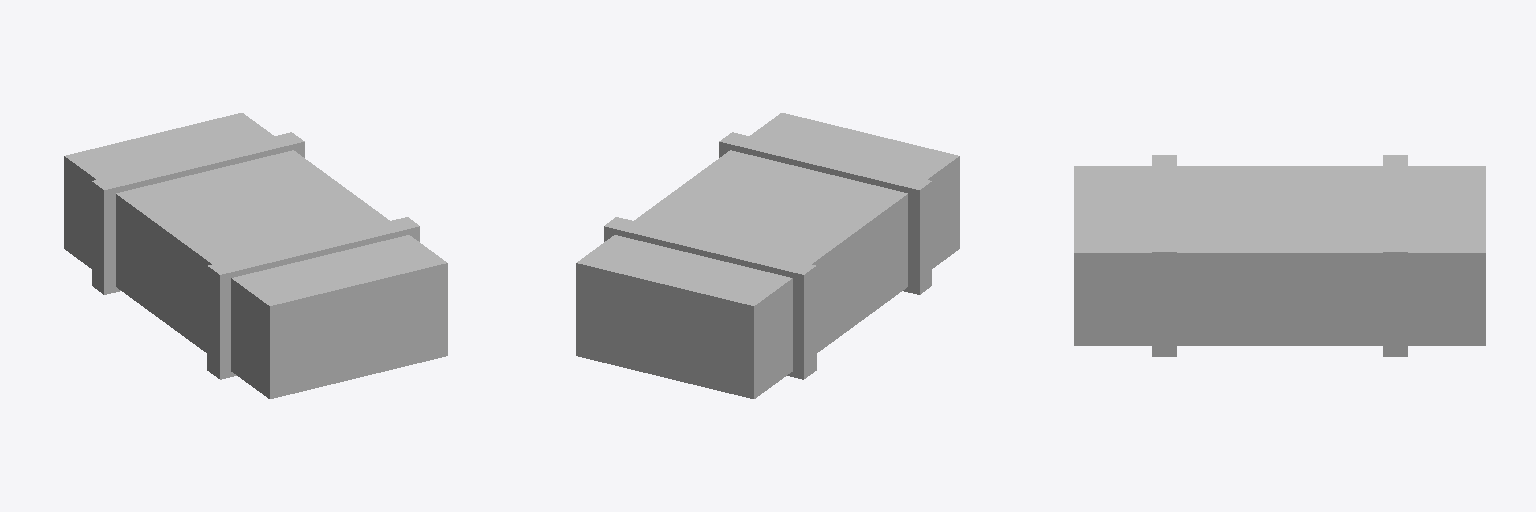
The model's file is guncase.obj.
The picture shows the model from 3 angles: view 1: azimuth 30°, elevation 25°; view 2: azimuth 150°, elevation 25°; view 3: azimuth 270°, elevation 25°; orthographic projection.
Visible parts, largest first — view 1: crate1; view 2: crate1; view 3: crate1.
Part boxes in pixels (bbox=[...]): crate1: bbox=[64, 113, 447, 398]; crate1: bbox=[576, 113, 959, 398]; crate1: bbox=[1074, 155, 1485, 356].
Bounding box in the file's own units: 36 × 18 × 64.